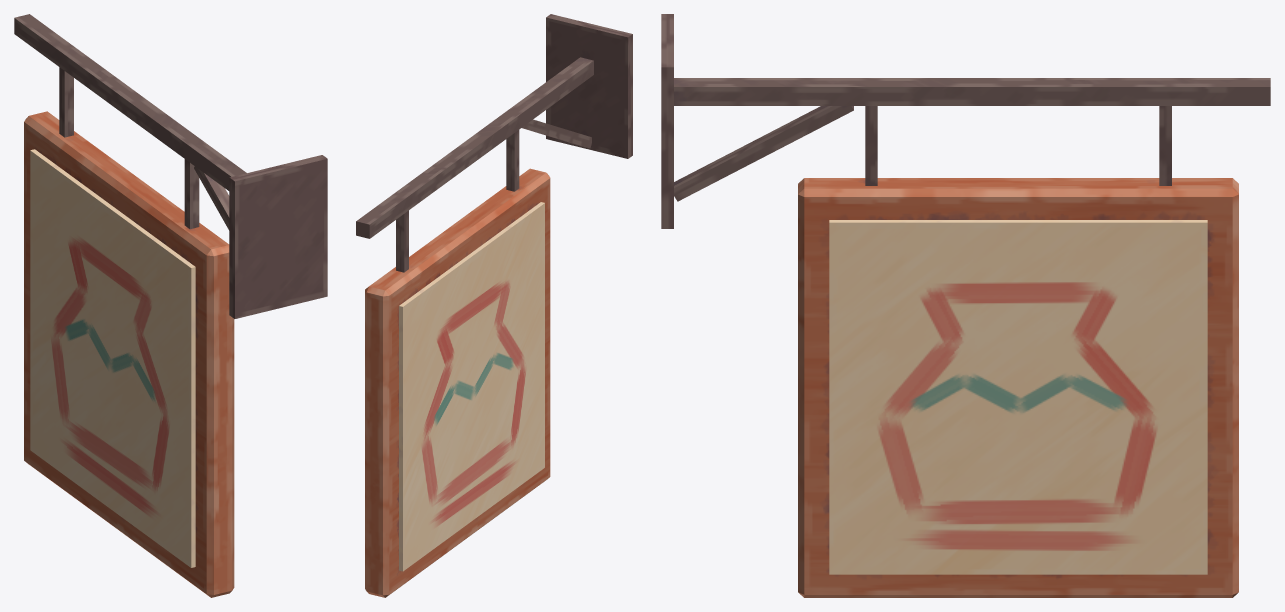
Rendered from sign_pot_body.fbx.
3 views of the same model, side by side, from view 1: azimuth 30°, elevation 25°; view 2: azimuth 150°, elevation 25°; view 3: azimuth 270°, elevation 25° (orthographic). The views are drawn at different scales.
Visible parts, largest first — view 1: sign_pot_body; view 2: sign_pot_body; view 3: sign_pot_body.
Part boxes in pixels (x1,y1,x2,y2): sign_pot_body: (14, 14, 327, 597); sign_pot_body: (356, 14, 632, 597); sign_pot_body: (661, 14, 1270, 597).
Size of the model in its own units: 0.6 by 2.9 by 2.9.
